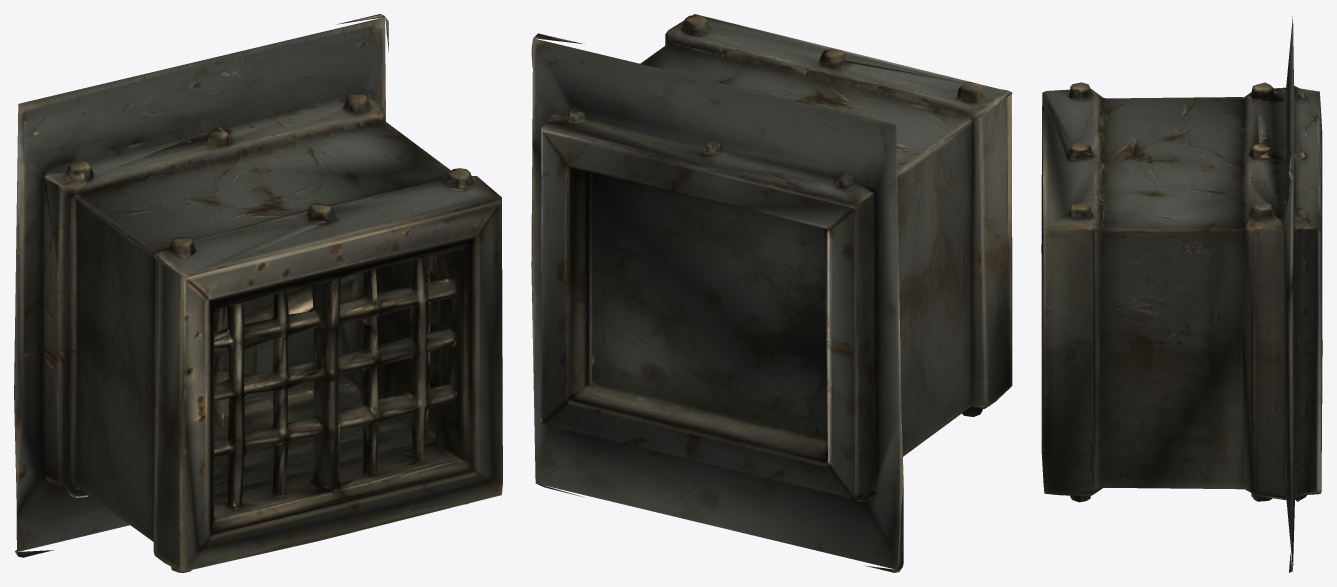
Rendered from air‑vent.fbx.
3 renders of one model, left to right at view 1: azimuth 30°, elevation 25°; view 2: azimuth 150°, elevation 25°; view 3: azimuth 270°, elevation 25°, orthographic. The views are drawn at different scales.
Parts seen in each view (by area): view 1: air‑vent; view 2: air‑vent; view 3: air‑vent.
Part boxes in pixels (x1,y1,x2,y2): air‑vent: [14, 14, 502, 572]; air‑vent: [531, 14, 1012, 572]; air‑vent: [1041, 16, 1322, 572].
Size of the model in its own units: 268 by 312 by 196.
1 material, 1 textured.
